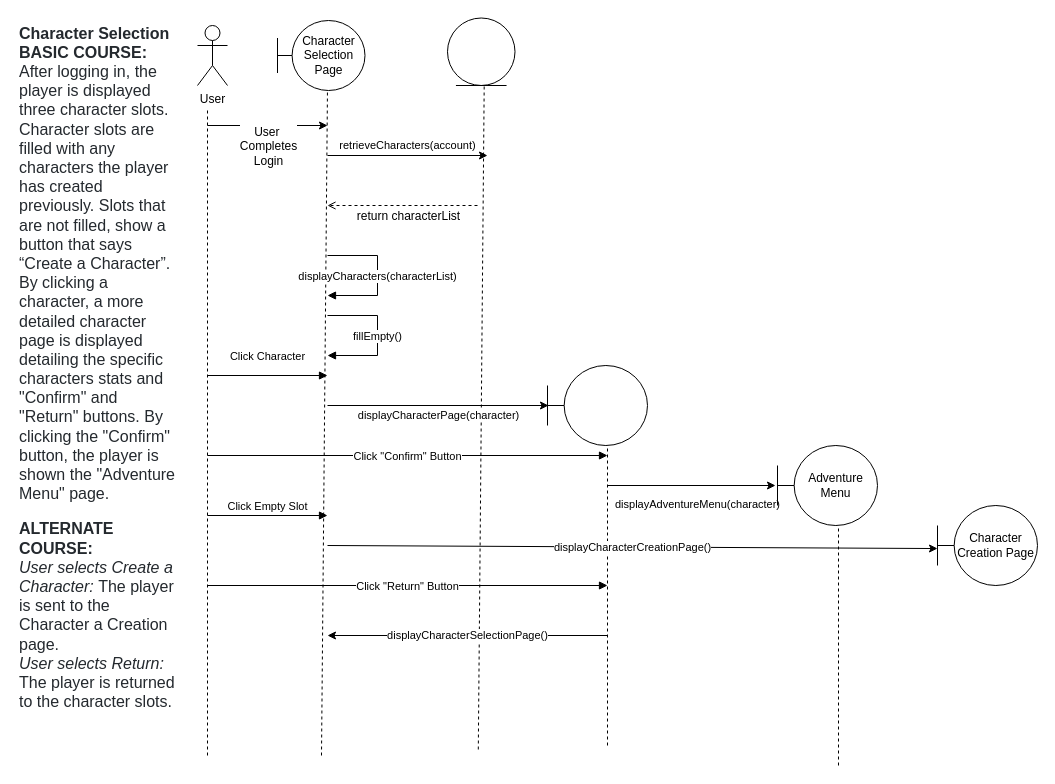
The diagram is 1055 pixels wide and 784 high, and some of its shapes have lost their labels. The box of each missing label's shape, as (x1, y1, x2, y2) in pixels:
Character Page (Detailed): (546, 364, 648, 446)
Character Server: (446, 17, 515, 86)
